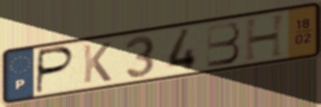3: (123, 33, 156, 80)
4: (164, 26, 199, 72)
B: (204, 20, 243, 69)
H: (243, 11, 289, 63)
K: (81, 40, 113, 85)
P: (34, 45, 77, 96)
